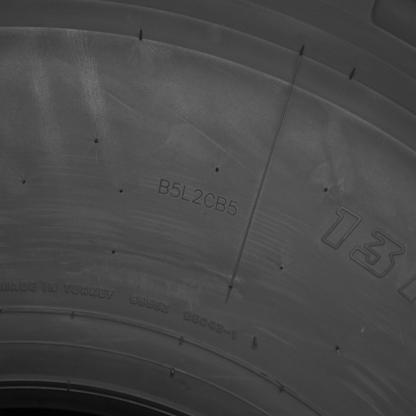ocr: (158, 175, 238, 217)
